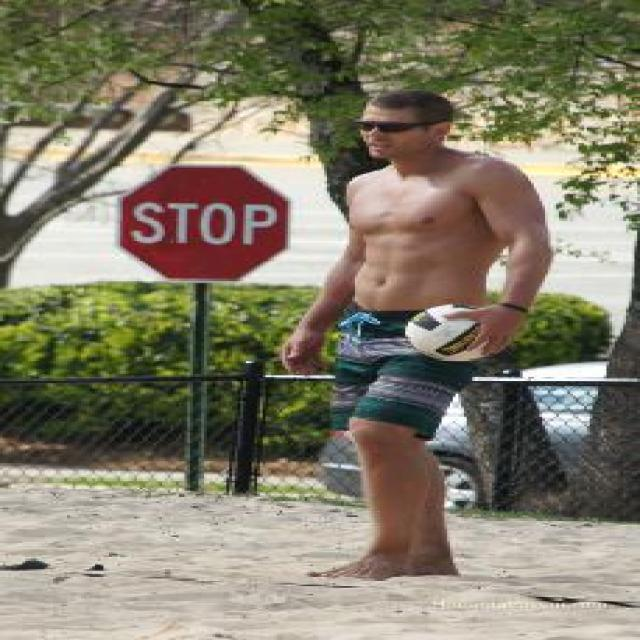volleyball: (406, 304, 490, 360)
